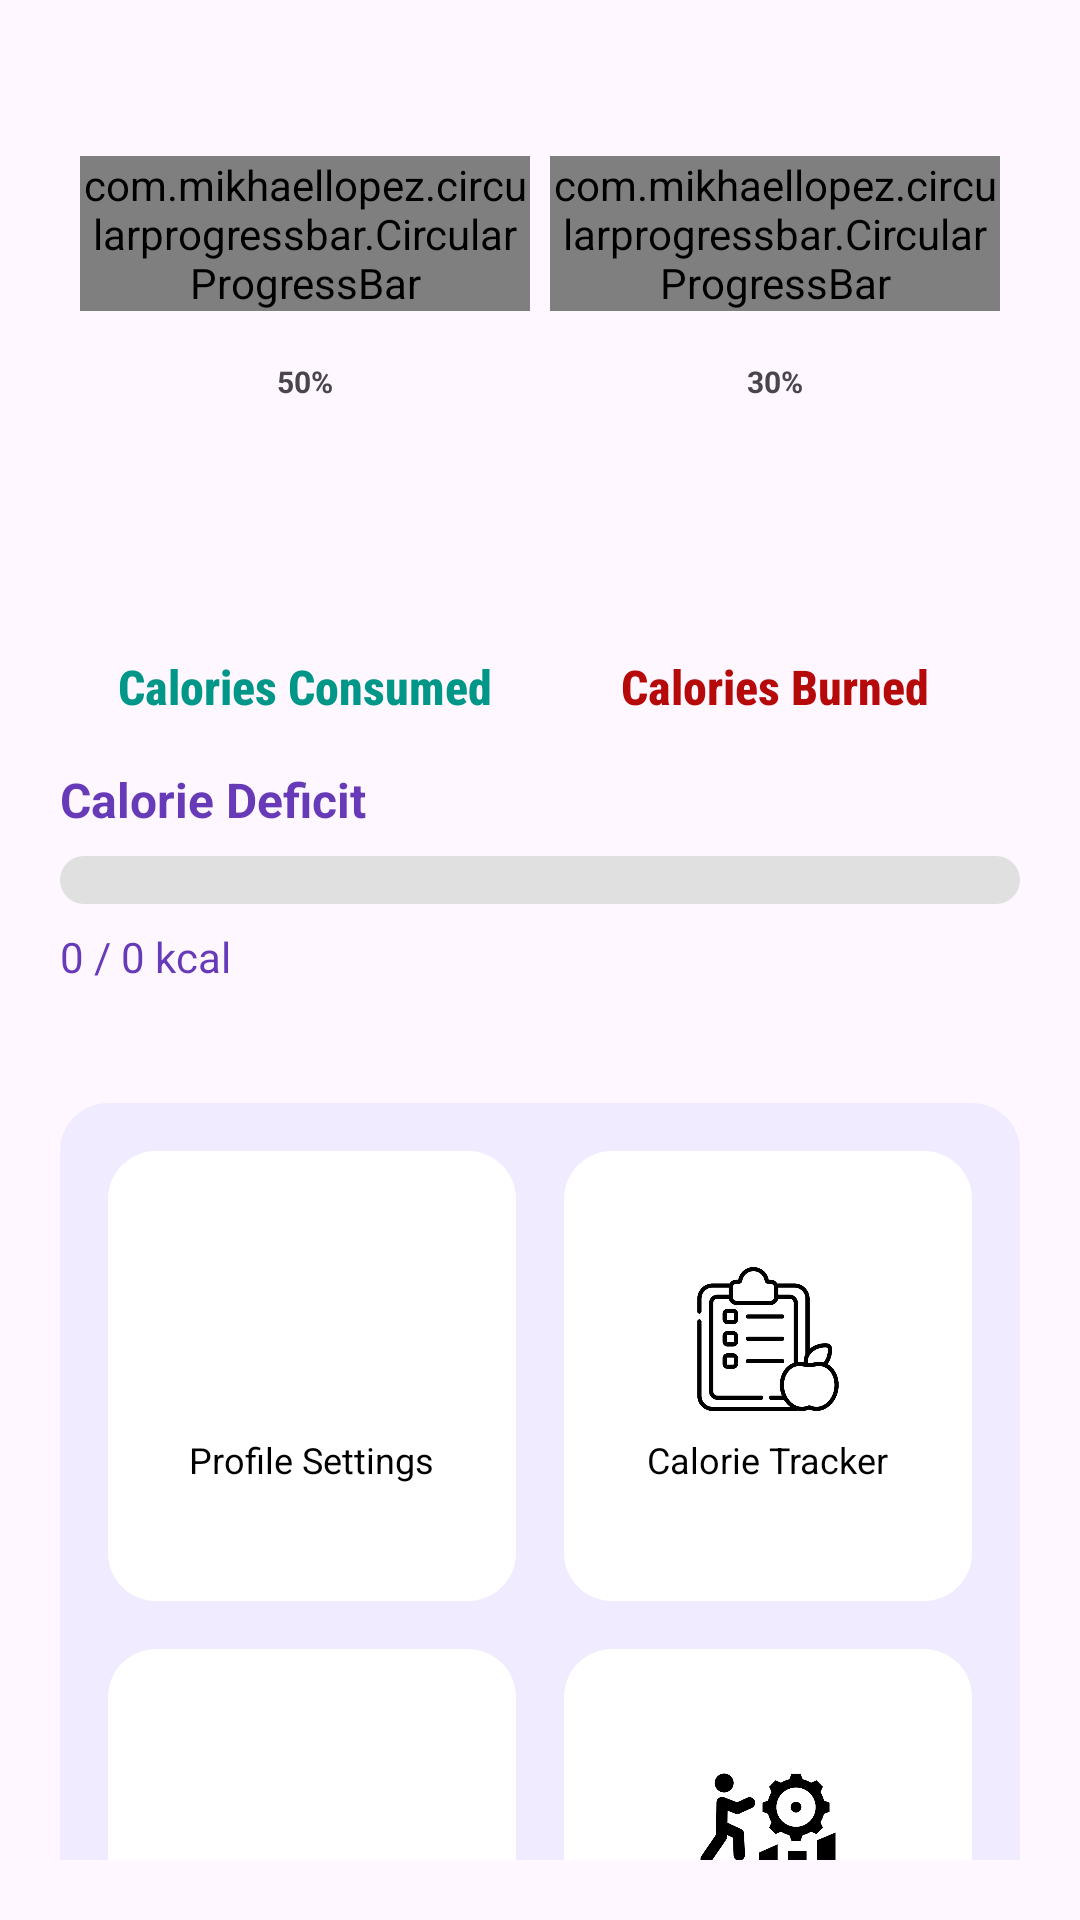

Named icons in this screenshot (1080 x 1920) and their centers, (x,y):
challenge: (768,1816)
